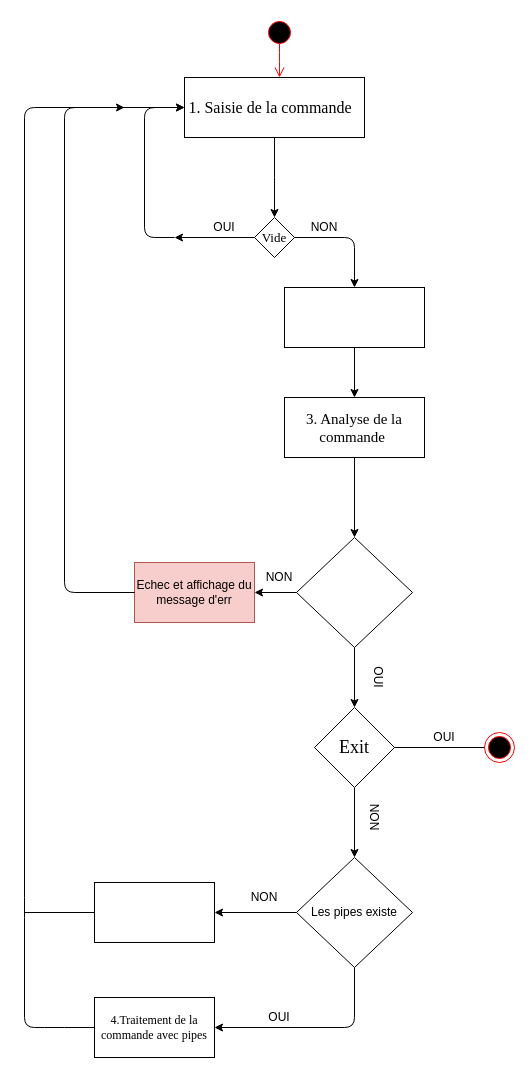
Some shapes in this 532 by 1075 pixel diagram are drawn without their labels. Here are the shapes that lost their labels. From the top down, the centre of each, then its label:
[354,317]: 2.Garder La commande dans l'historique des commandes
[354,592]: La commande est valide
[154,912]: 4.Traitement de la commande sans pipes
